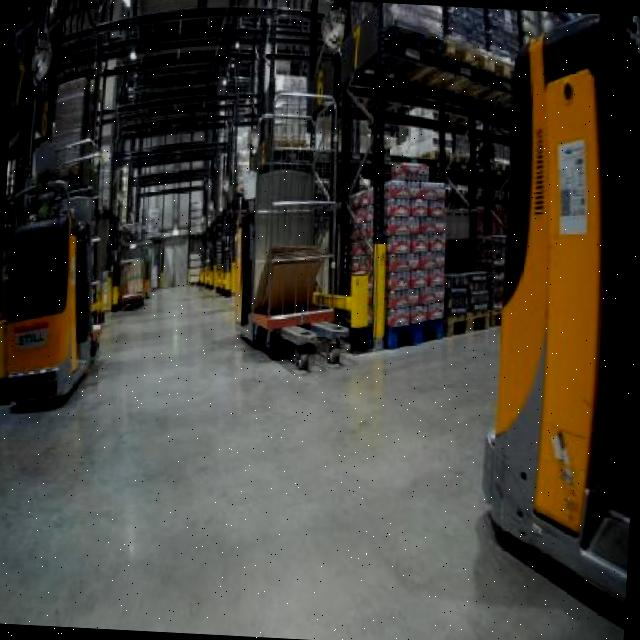pallet: (372, 302, 451, 369), (442, 304, 499, 342)
